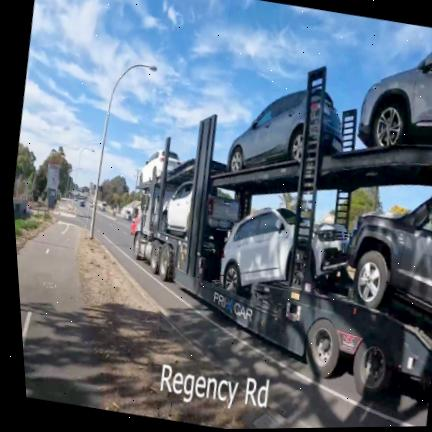Bike_Lane: (17, 224, 103, 408)
